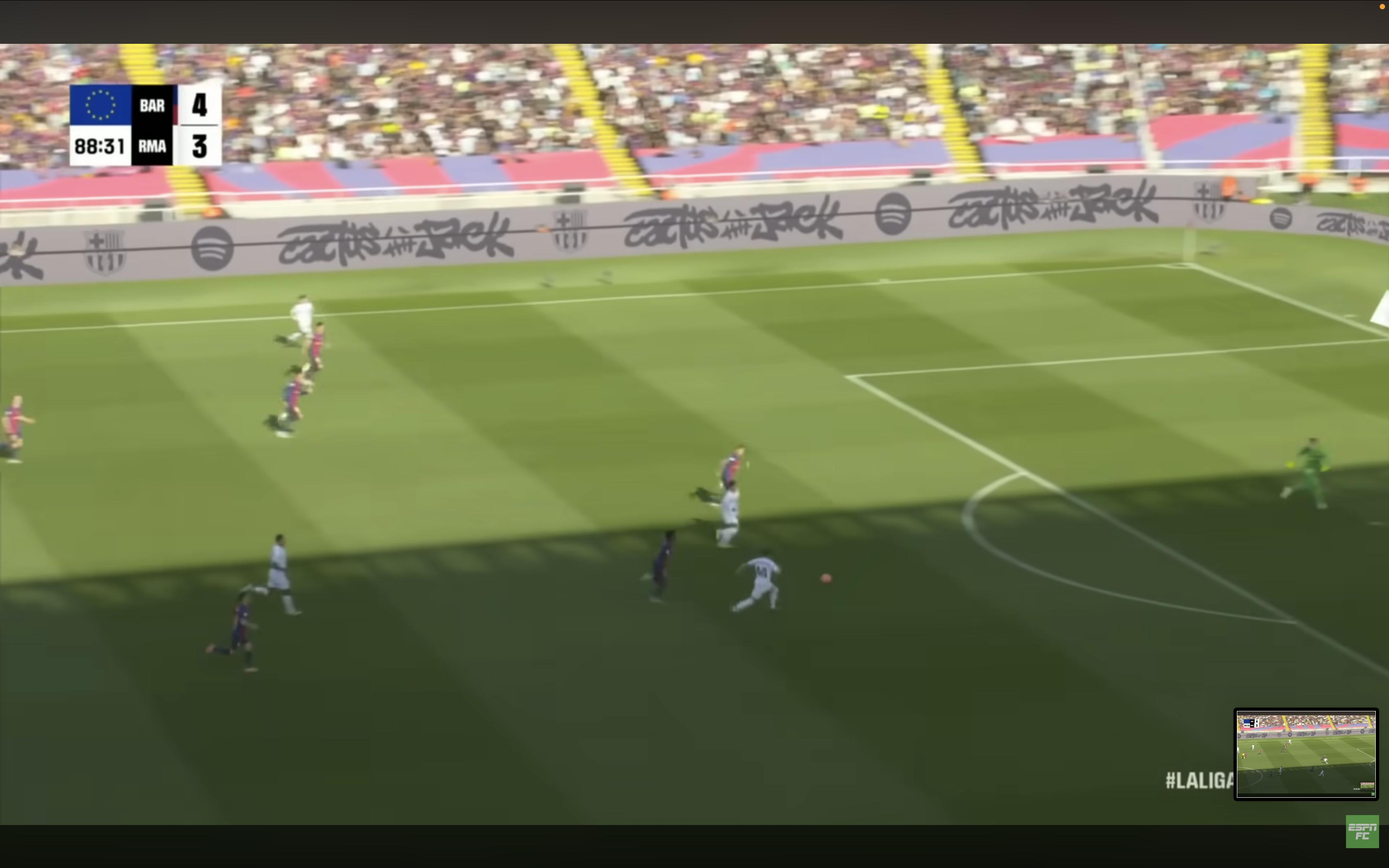ball: (820, 574, 833, 584)
goalkeeper: (1281, 438, 1329, 509)
player: (243, 534, 301, 615), (206, 590, 257, 672), (732, 551, 780, 612), (642, 530, 676, 602), (273, 368, 307, 437), (3, 396, 35, 464), (299, 322, 326, 393), (277, 295, 314, 346), (715, 481, 740, 547), (718, 445, 745, 491)
